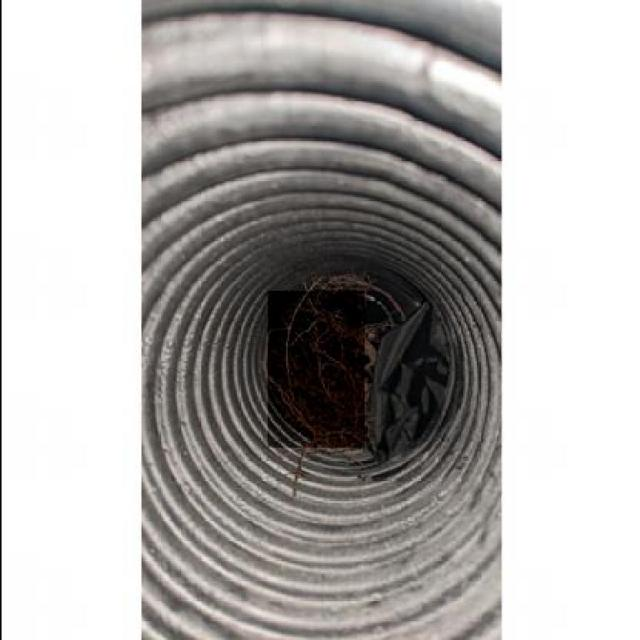block: (379, 317, 440, 443)
root: (305, 271, 387, 417)
